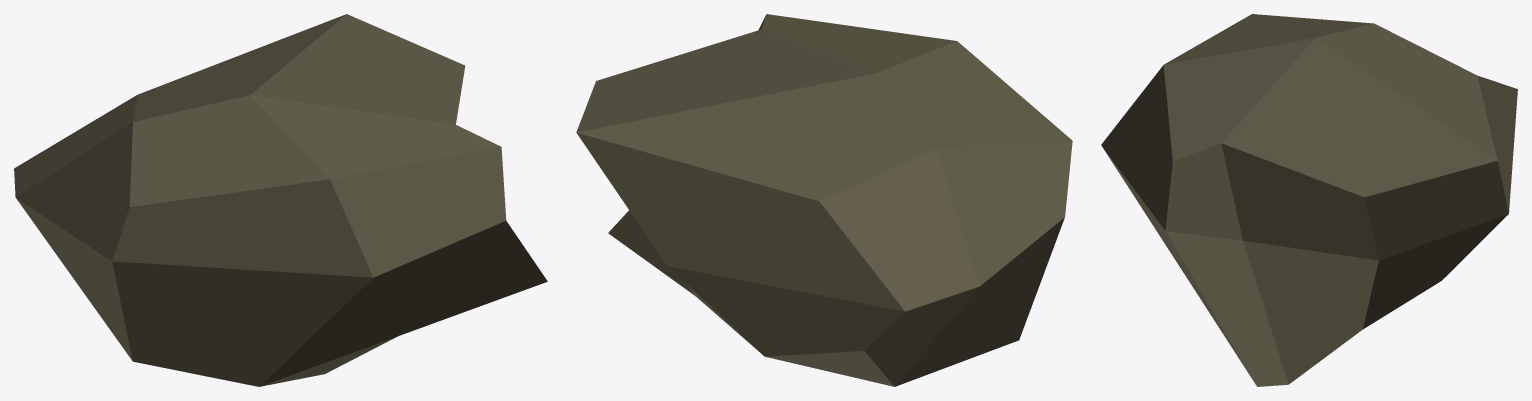
The model's file is Rock1.fbx.
3 views of the same model, side by side, from view 1: azimuth 30°, elevation 25°; view 2: azimuth 150°, elevation 25°; view 3: azimuth 270°, elevation 25° (orthographic). The views are drawn at different scales.
Visible parts, largest first — view 1: rock1; view 2: rock1; view 3: rock1.
Part boxes in pixels (x1,y1,x2,y2): rock1: (14,14,547,386); rock1: (576,14,1072,386); rock1: (1101,14,1517,386).
Size of the model in its own units: 283 by 176 by 242.
